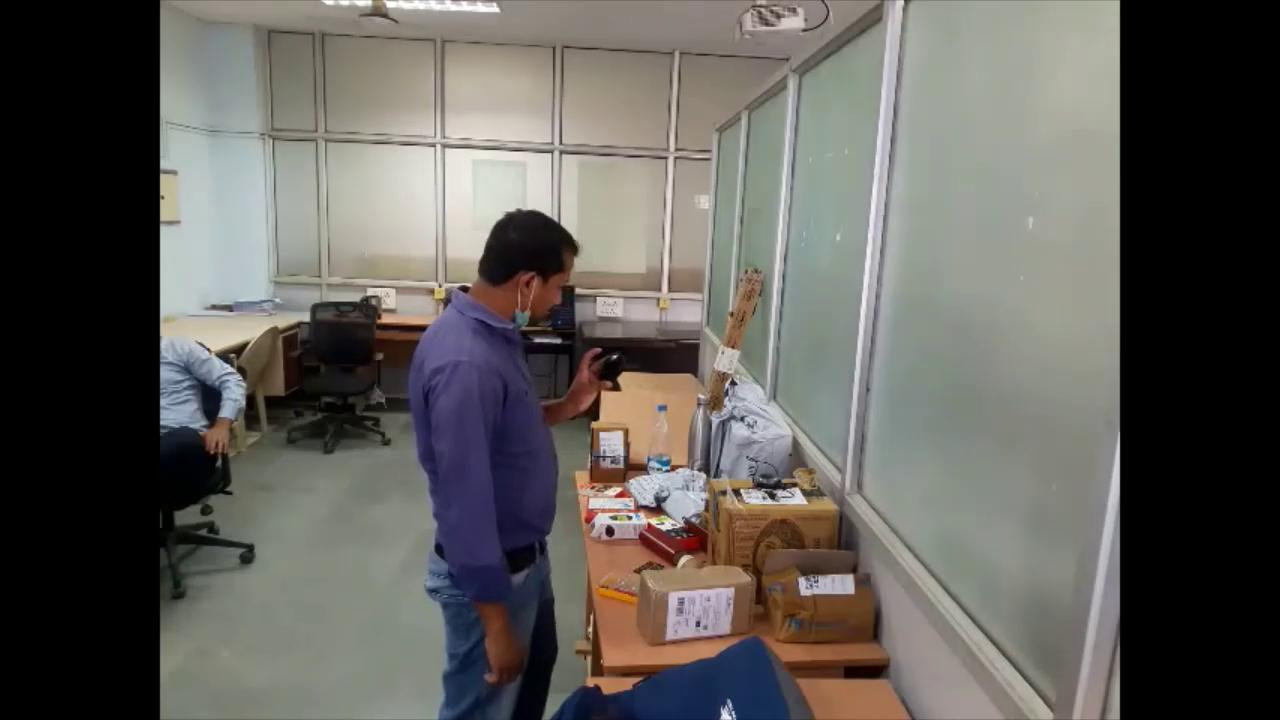Normal: (405, 190, 629, 720)
